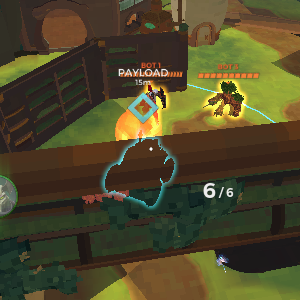model: (141, 82, 167, 121), (213, 82, 240, 117)
